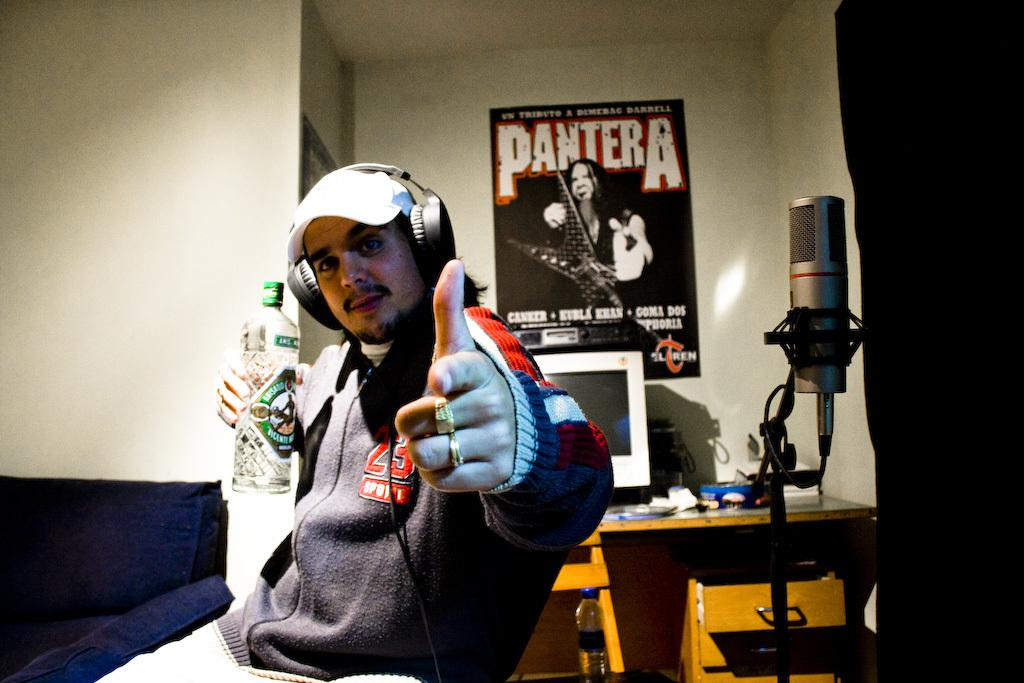Computer-monitor: (527, 345, 656, 503)
